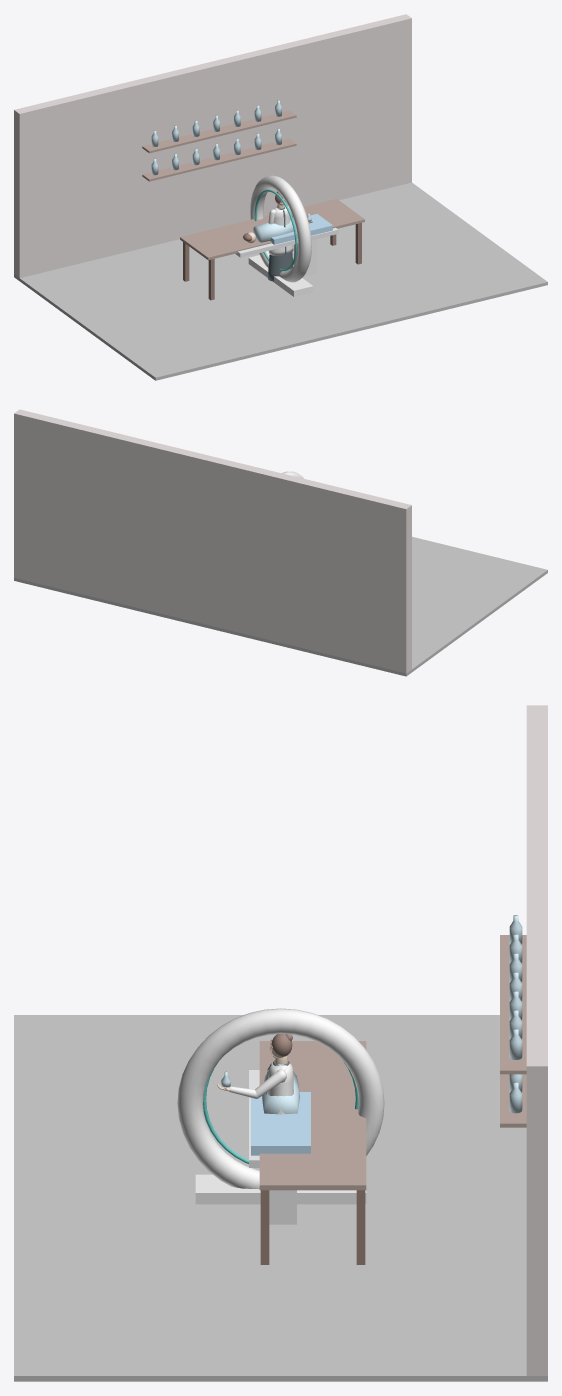
The model's file is curie.glb.
3 renders of one model, top to bottom at view 1: azimuth 30°, elevation 25°; view 2: azimuth 150°, elevation 25°; view 3: azimuth 270°, elevation 25°, orthographic. The views are drawn at different scales.
Visible parts, largest first — view 1: cl_wall, cl_floor, cl_bench_top, cg_ring, cl_shelf0, cl_shelf1, cg_foot, cb_sheet, cb_top, curie_figure_cu_dress, cb_body, curie_figure_cu_coat; view 2: cl_wall, cl_floor; view 3: cl_floor, cl_wall, cg_ring, cl_bench_top, cb_sheet, cg_foot, cl_shelf1, curie_figure_cu_coat, cl_shelf0, cb_pillar, cb_body.
Boxes of the visible parts, x1=… form: cl_wall: x1=14, y1=14, x2=411, y2=277; cl_floor: x1=14, y1=182, x2=547, y2=380; cl_bench_top: x1=180, y1=198, x2=364, y2=260; cg_ring: x1=250, y1=175, x2=311, y2=282; cl_shelf0: x1=142, y1=138, x2=296, y2=181; cl_shelf1: x1=142, y1=110, x2=296, y2=153; cg_foot: x1=248, y1=255, x2=313, y2=296; cb_sheet: x1=270, y1=214, x2=332, y2=244; cb_top: x1=235, y1=227, x2=338, y2=257; curie_figure_cu_dress: x1=267, y1=207, x2=293, y2=281; cb_body: x1=253, y1=220, x2=293, y2=242; curie_figure_cu_coat: x1=268, y1=206, x2=293, y2=255; cl_wall: x1=14, y1=409, x2=411, y2=673; cl_floor: x1=14, y1=536, x2=547, y2=676; cl_floor: x1=14, y1=1015, x2=547, y2=1381; cl_wall: x1=526, y1=705, x2=547, y2=1375; cg_ring: x1=177, y1=1008, x2=384, y2=1189; cl_bench_top: x1=259, y1=1041, x2=366, y2=1190; cb_sheet: x1=251, y1=1092, x2=310, y2=1155; cg_foot: x1=195, y1=1174, x2=366, y2=1204; cl_shelf1: x1=500, y1=935, x2=526, y2=1074; curie_figure_cu_coat: x1=229, y1=1061, x2=293, y2=1114; cl_shelf0: x1=500, y1=1074, x2=526, y2=1127; cb_pillar: x1=269, y1=1190, x2=296, y2=1224; cb_body: x1=261, y1=1071, x2=300, y2=1114.
Bounding box in the file's own units: 8 × 3.26 × 5.
